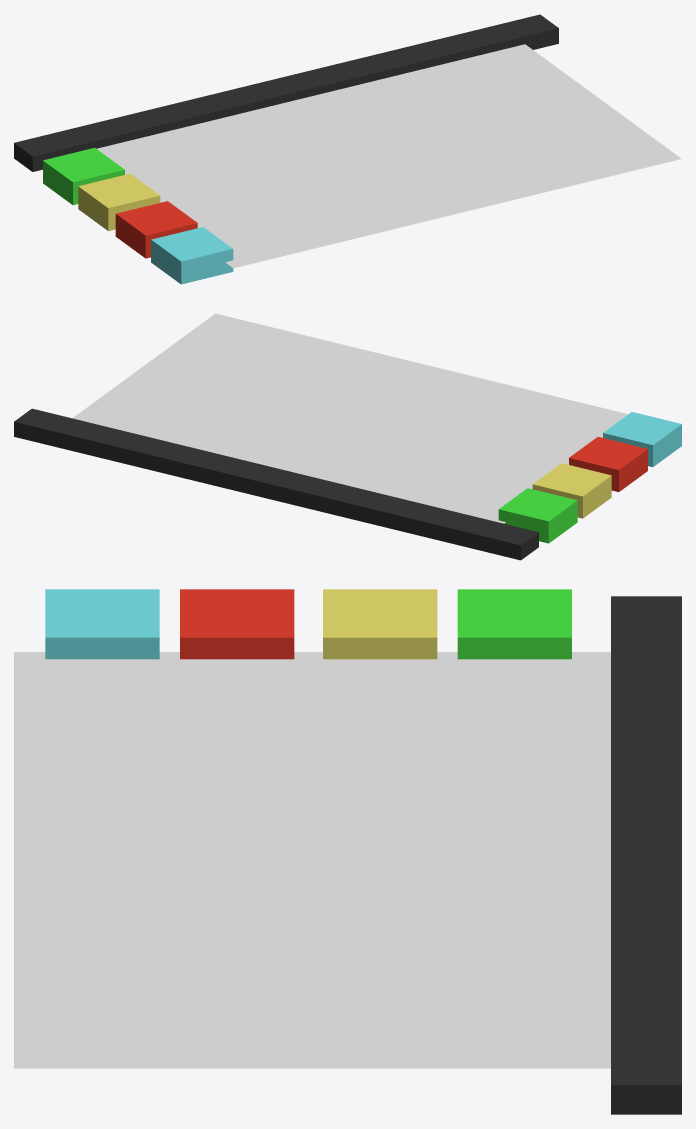
Rendered from sign.fbx.
The picture shows the model from 3 angles, top to bottom: view 1: azimuth 30°, elevation 25°; view 2: azimuth 150°, elevation 25°; view 3: azimuth 270°, elevation 25°; orthographic projection. The views are drawn at different scales.
Parts seen in each view (by area): view 1: screen, topshelf, blue, yellow, red, green; view 2: screen, topshelf, green, red, yellow, blue; view 3: screen, topshelf, blue, green, yellow, red.
Boxes of the visible parts, x1,y1,x2,y2 form: screen: (96,44,681,268); topshelf: (14,14,558,171); blue: (151,227,233,284); yellow: (78,173,160,230); red: (115,201,197,258); green: (43,147,124,205); screen: (72,313,627,523); topshelf: (14,408,538,560); green: (498,488,577,543); red: (569,437,647,491); yellow: (532,463,611,518); blue: (603,412,681,467); screen: (14,652,610,1068); topshelf: (611,596,681,1114); blue: (45,589,159,659); green: (457,589,571,659); yellow: (323,589,437,659); red: (180,589,294,659).
Bounding box in the file's own units: 363 × 15.11 × 209.
